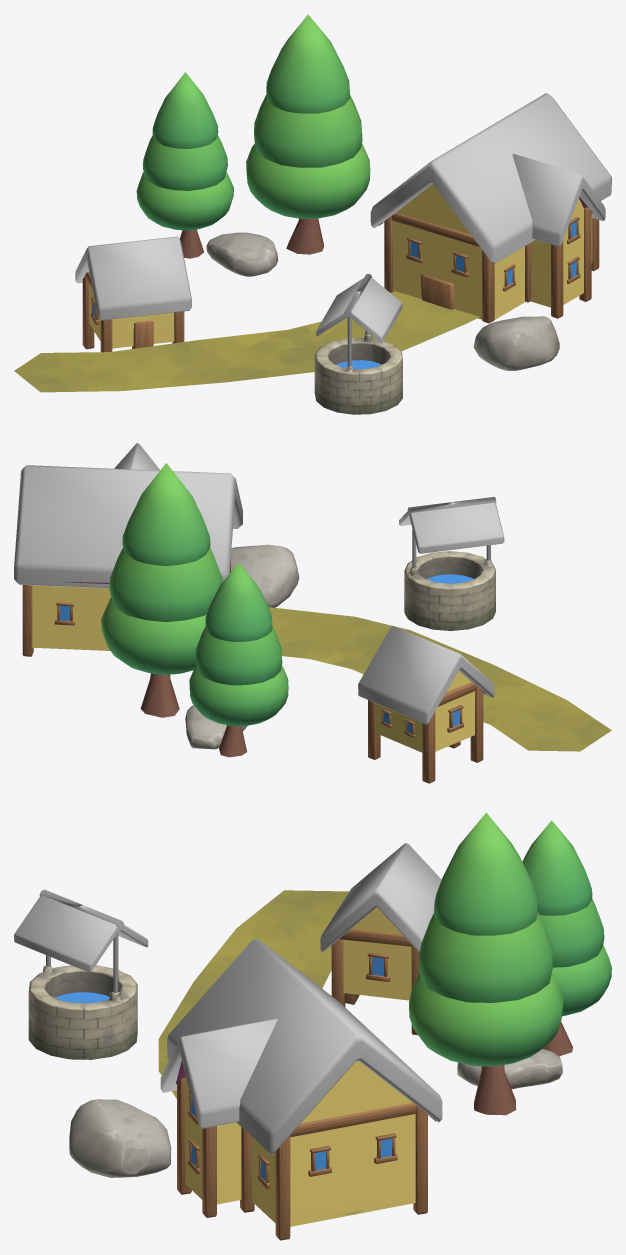
File: City_03.fbx
3 views of the same model, one above another, from view 1: azimuth 30°, elevation 25°; view 2: azimuth 150°, elevation 25°; view 3: azimuth 270°, elevation 25° (orthographic). The views are drawn at different scales.
Parts seen in each view (by area): view 1: City_03; view 2: City_03; view 3: City_03.
Part boxes in pixels (left/top/right/bottom): City_03: left=14, top=14, right=611, bottom=414; City_03: left=14, top=443, right=611, bottom=783; City_03: left=14, top=812, right=611, bottom=1240.
Size of the model in its own units: 213 by 94.16 by 157.
